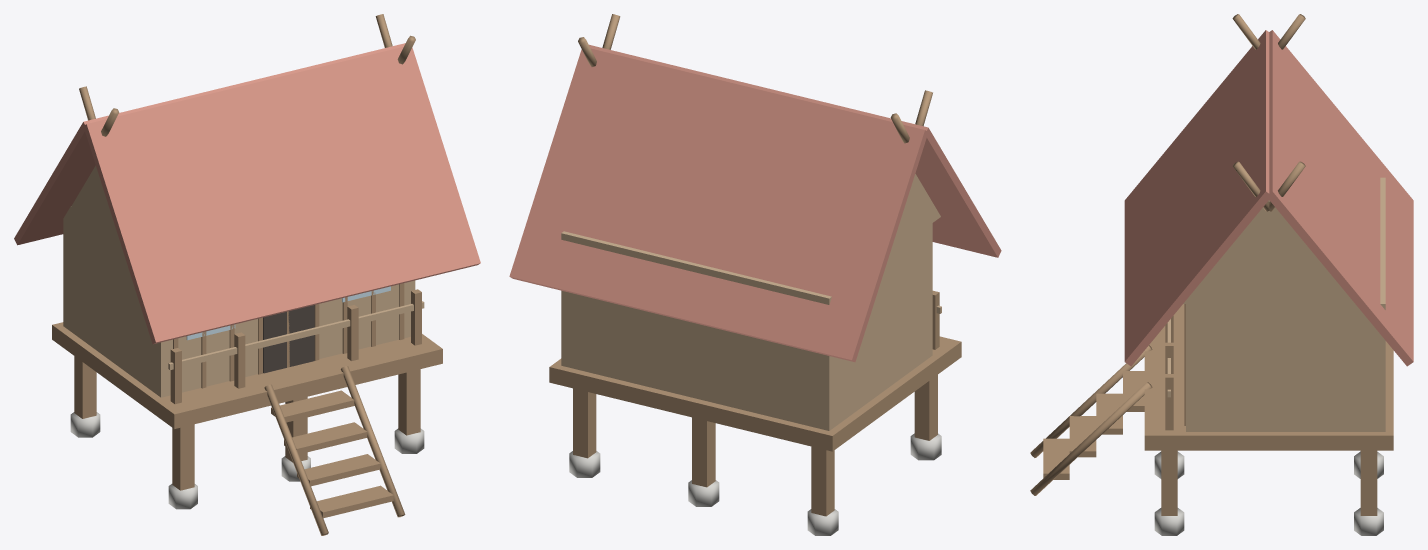
File: kampung-house.glb
3 renders of one model, left to right at view 1: azimuth 30°, elevation 25°; view 2: azimuth 150°, elevation 25°; view 3: azimuth 270°, elevation 25°, orthographic. The views are drawn at different scales.
Parts seen in each view (by area): view 1: KampungHouse; view 2: KampungHouse; view 3: KampungHouse.
Part boxes in pixels (x1,y1,x2,y2): KampungHouse: (14,14,480,535); KampungHouse: (509,14,1001,535); KampungHouse: (1030,14,1413,535).
Size of the model in its own units: 2.3 by 2.58 by 2.31.
